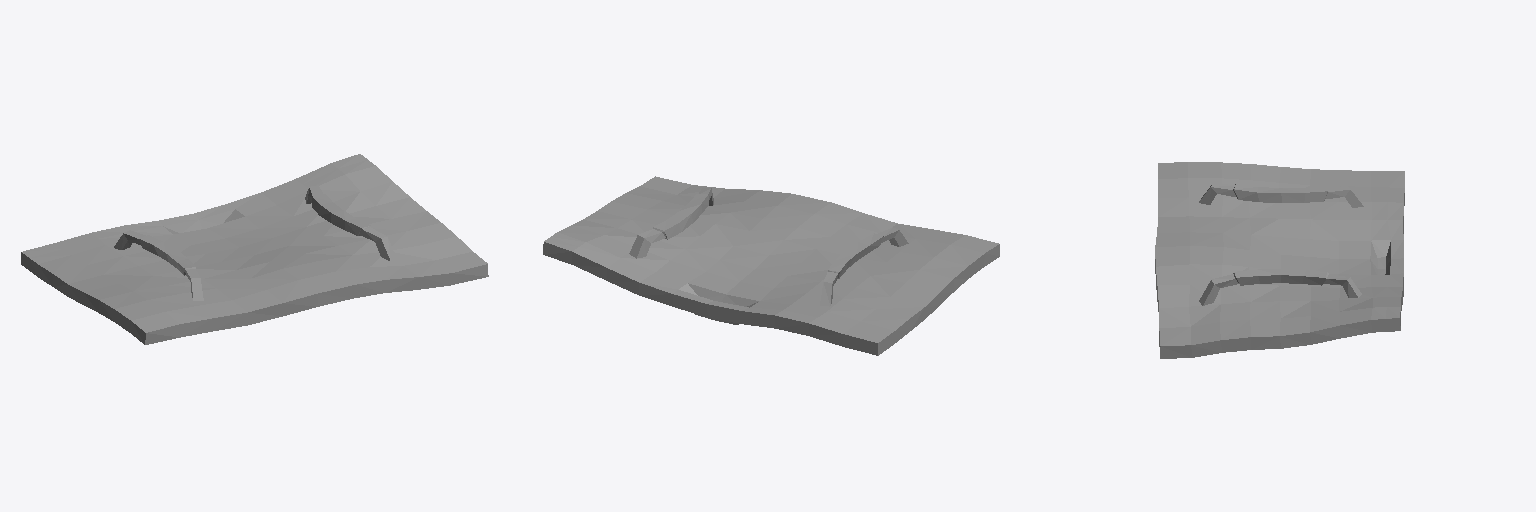
The model's file is PortalProps03.obj.
The picture shows the model from 3 angles: view 1: azimuth 30°, elevation 25°; view 2: azimuth 150°, elevation 25°; view 3: azimuth 270°, elevation 25°; orthographic projection.
Visible parts, largest first — view 1: PortalProps03_PortalProps03_low_Cube; view 2: PortalProps03_PortalProps03_low_Cube; view 3: PortalProps03_PortalProps03_low_Cube.
Boxes of the visible parts, <box> form: PortalProps03_PortalProps03_low_Cube: <box>21,154,488,344</box>; PortalProps03_PortalProps03_low_Cube: <box>543,176,999,355</box>; PortalProps03_PortalProps03_low_Cube: <box>1155,162,1404,358</box>.
Size of the model in its own units: 0.8369 by 0.1229 by 0.5243.